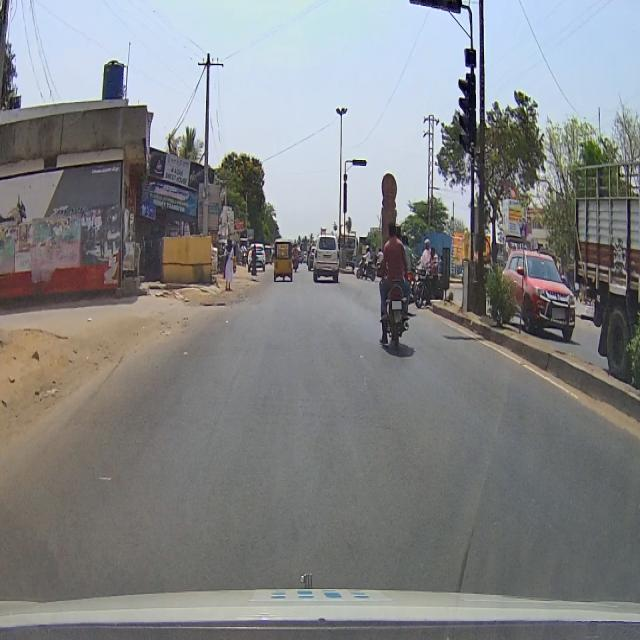auto ahead at: (270, 236, 301, 285)
motorcycle ahead at: (374, 280, 416, 352)
